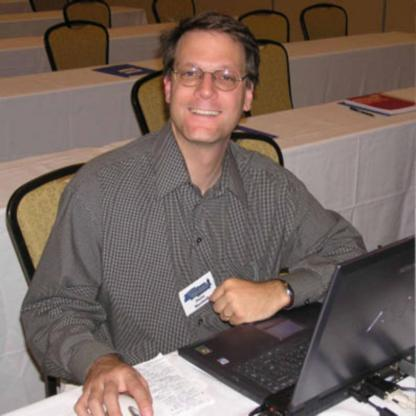board: (158, 237, 416, 412)
